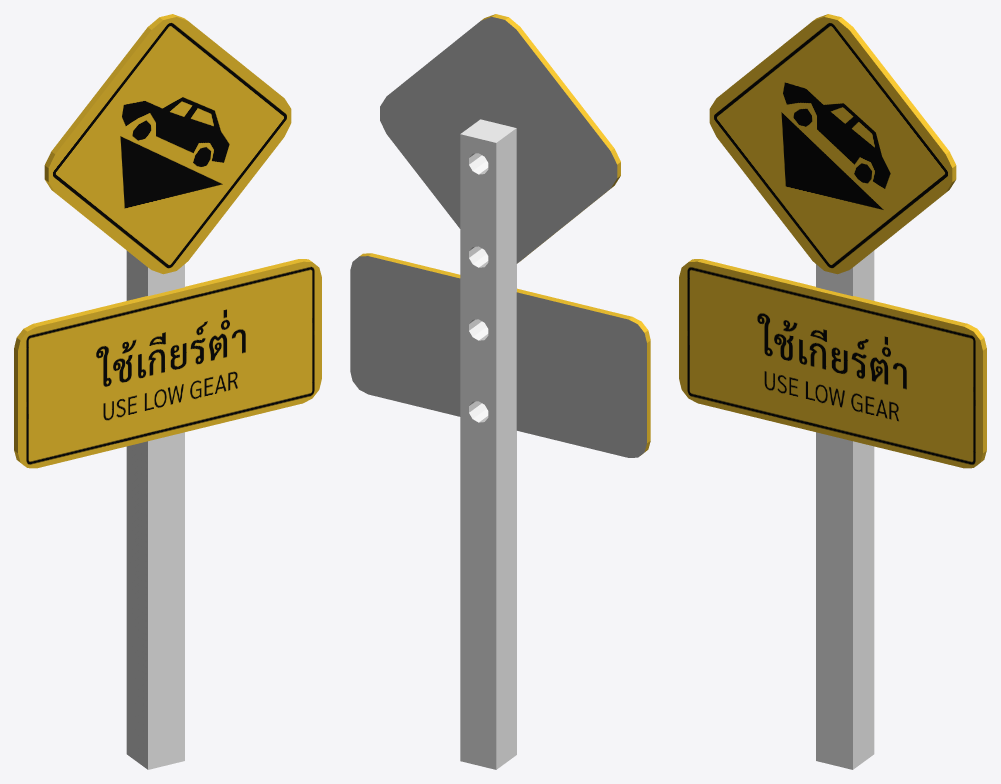
Rendered from WayWarningSign.glb.
3 renders of one model, left to right at view 1: azimuth 30°, elevation 25°; view 2: azimuth 150°, elevation 25°; view 3: azimuth 330°, elevation 25°, orthographic. The views are drawn at different scales.
Parts seen in each view (by area): view 1: Cube.002, Cube, Cube.001; view 2: Cube.001, Cube.002, Cube; view 3: Cube.002, Cube, Cube.001.
Part boxes in pixels (x1,y1,x2,y2): Cube.002: (14,259,321,468); Cube: (44,14,291,274); Cube.001: (126,250,184,769); Cube.001: (460,119,516,769); Cube.002: (350,253,650,457); Cube: (380,14,620,263); Cube.002: (679,259,986,468); Cube: (709,14,956,274); Cube.001: (816,250,874,769).
Bounding box in the file's own units: 2.9 × 6.85 × 0.4092.
Materials: 3 (2 with a texture image).
